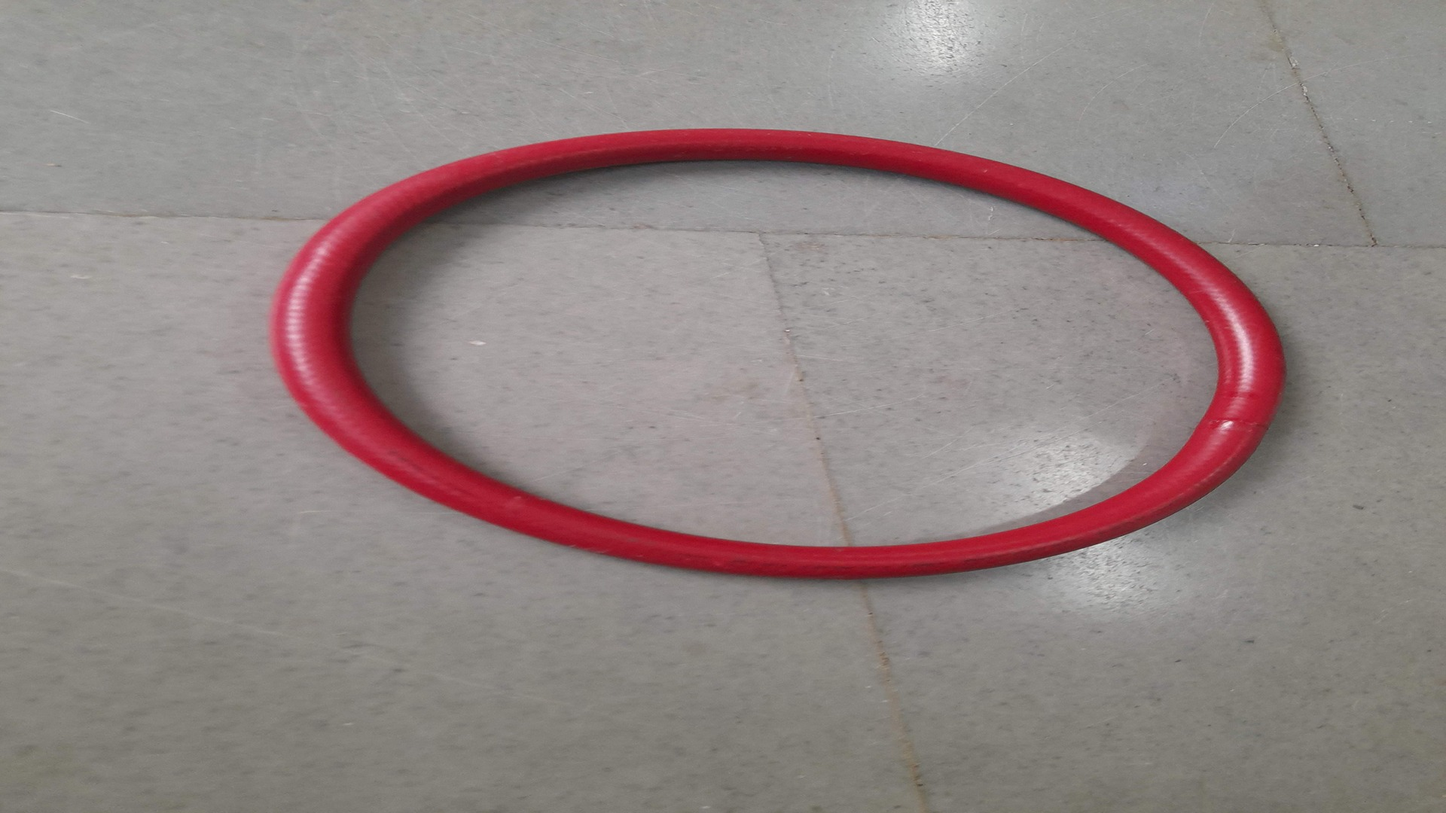Red ring: (271, 126, 1286, 576)
